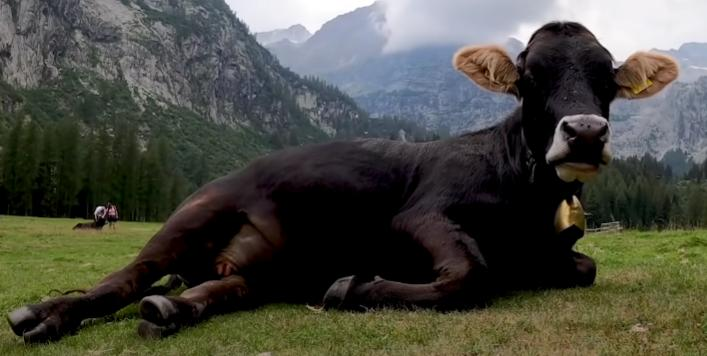cow: (6, 21, 680, 356)
